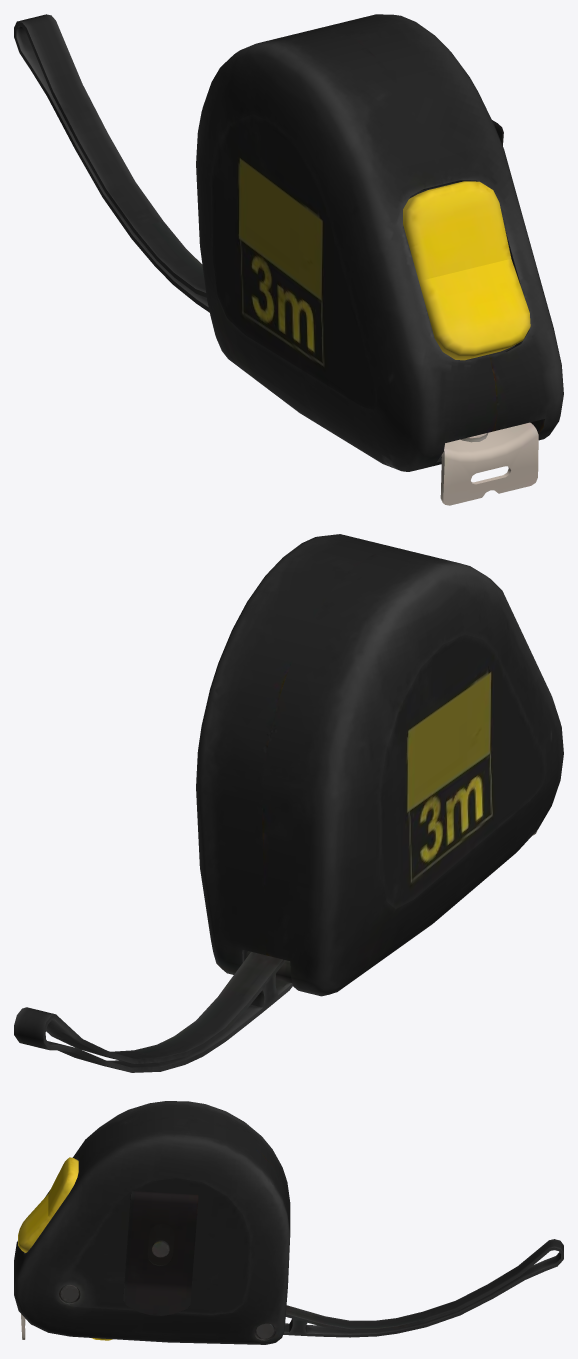
File: measuring-tape.glb
The picture shows the model from 3 angles, top to bottom: view 1: azimuth 30°, elevation 25°; view 2: azimuth 150°, elevation 25°; view 3: azimuth 270°, elevation 25°; orthographic projection. The views are drawn at different scales.
Visible parts, largest first — view 1: measuring_tape_01; view 2: measuring_tape_01; view 3: measuring_tape_01.
Part boxes in pixels (<box>): measuring_tape_01: <box>14,14,563,505</box>; measuring_tape_01: <box>14,534,563,1072</box>; measuring_tape_01: <box>14,1101,563,1344</box>.
Size of the model in its own units: 0.0406 by 0.0734 by 0.1694.
1 material, 1 textured.
